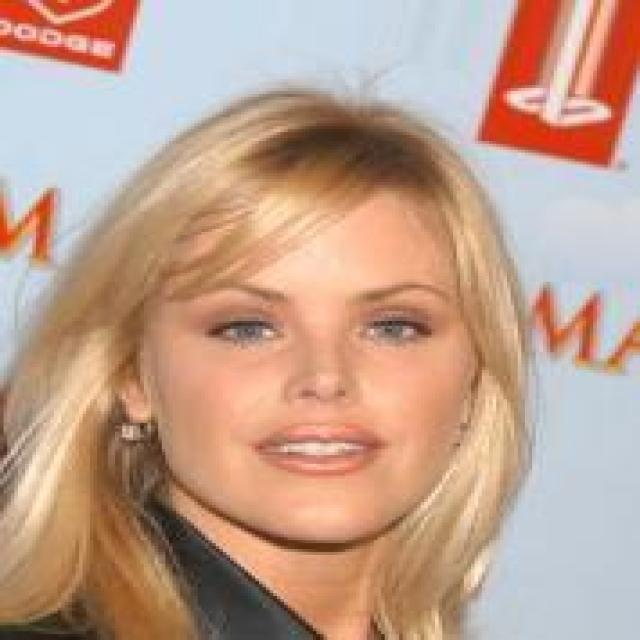bareface: (140, 190, 471, 528)
